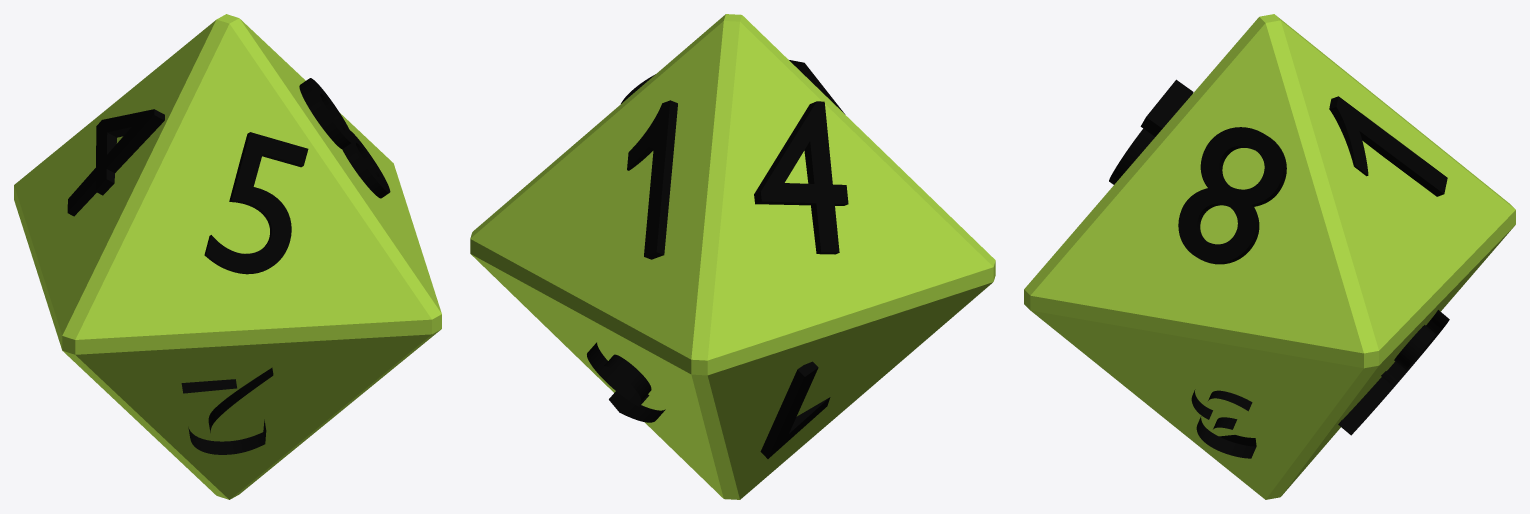
The picture shows the model from 3 angles, left to right: view 1: azimuth 30°, elevation 25°; view 2: azimuth 150°, elevation 25°; view 3: azimuth 270°, elevation 25°; orthographic projection.
Visible parts, largest first — view 1: Solid, Text.004, Text.002, Text.003, Text.006; view 2: Solid, Text.002, Text, Text.008, Text.005; view 3: Solid, Text.003, Text, Text.008, Text.004, Text.007.
Boxes of the visible parts, x1,y1,x2,y2 form: Solid: (14,14,441,499); Text.004: (204,132,308,274); Text.002: (67,109,164,216); Text.003: (299,78,390,198); Text.006: (181,367,273,454); Solid: (470,14,995,499); Text.002: (754,101,848,254); Text: (627,100,677,259); Text.008: (587,342,665,422); Text.005: (760,361,830,458); Solid: (1024,14,1515,499); Text.003: (1178,127,1286,264); Text: (1329,96,1447,196); Text.008: (1338,310,1449,435); Text.004: (1109,79,1193,184); Text.007: (1191,389,1256,458).
Size of the model in its own units: 176 by 188 by 176.
